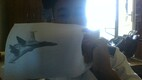maybay_muctieu: (9, 31, 57, 66)
